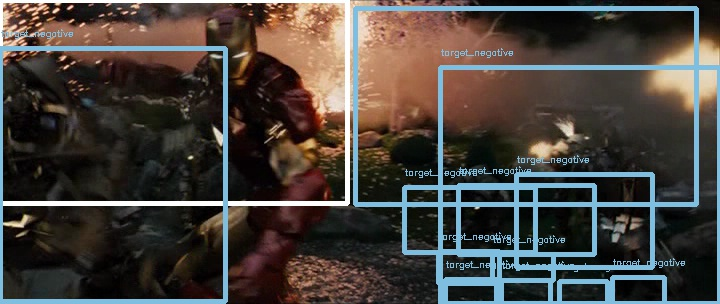person: (204, 19, 254, 87), (203, 19, 253, 87), (205, 19, 255, 87), (204, 18, 254, 86), (204, 20, 254, 88)
target_negative: (47, 231, 656, 265), (148, 238, 378, 292), (257, 220, 340, 245), (443, 291, 685, 292), (639, 62, 641, 132), (710, 267, 714, 280)
